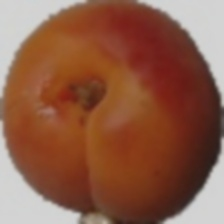apricot: (42, 40, 182, 190)
